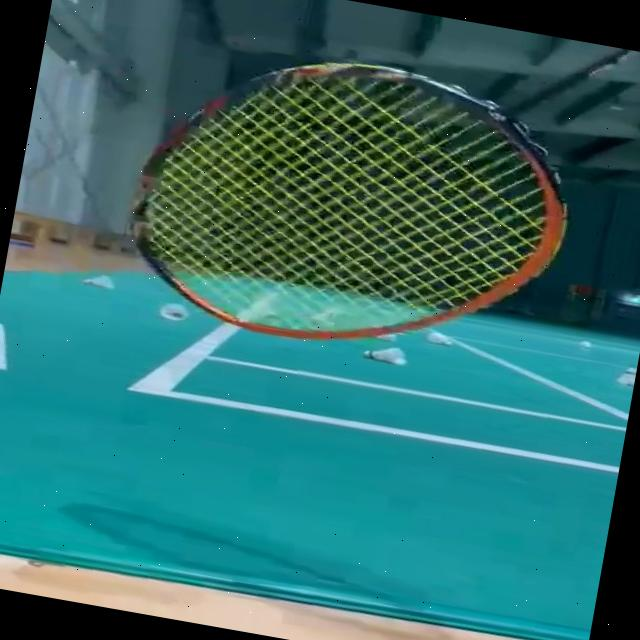Shuttle: (361, 341, 409, 368), (156, 300, 191, 324), (80, 270, 116, 290), (614, 364, 636, 386), (428, 330, 451, 346), (578, 339, 592, 349)
